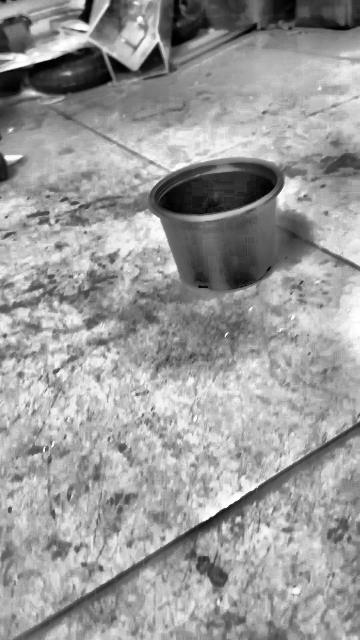pot: (150, 159, 282, 291)
